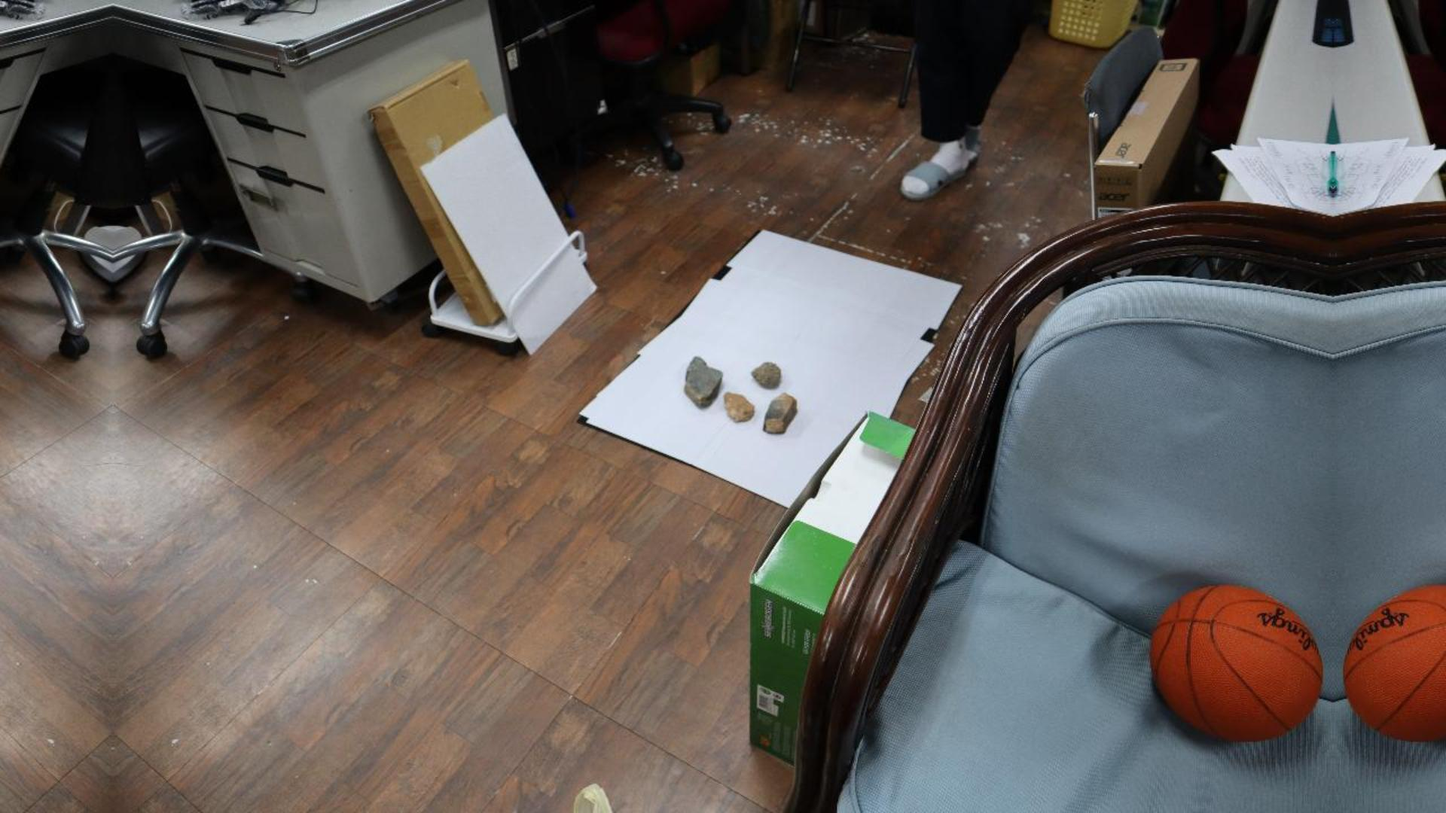rock: (683, 356, 722, 408), (763, 393, 796, 434), (723, 392, 754, 421), (751, 361, 781, 388)
